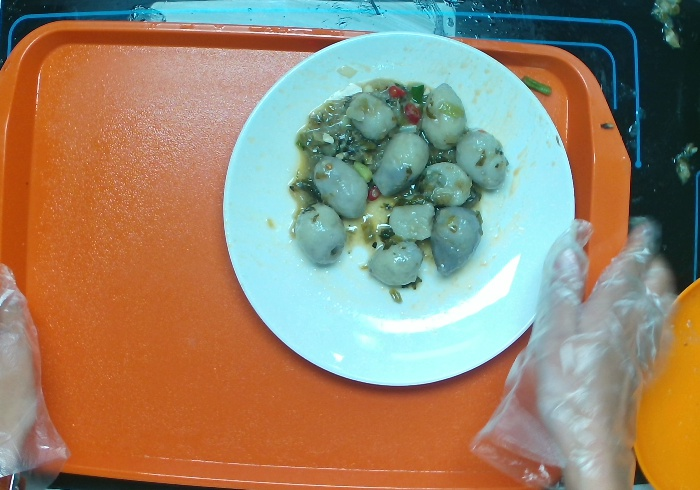HZYJPL-Bai_Se_Yuan_Pan: (219, 31, 577, 393)
